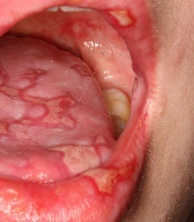SJS-TEN: (46, 116, 144, 208), (0, 65, 83, 140), (104, 0, 141, 33), (60, 58, 99, 82)
